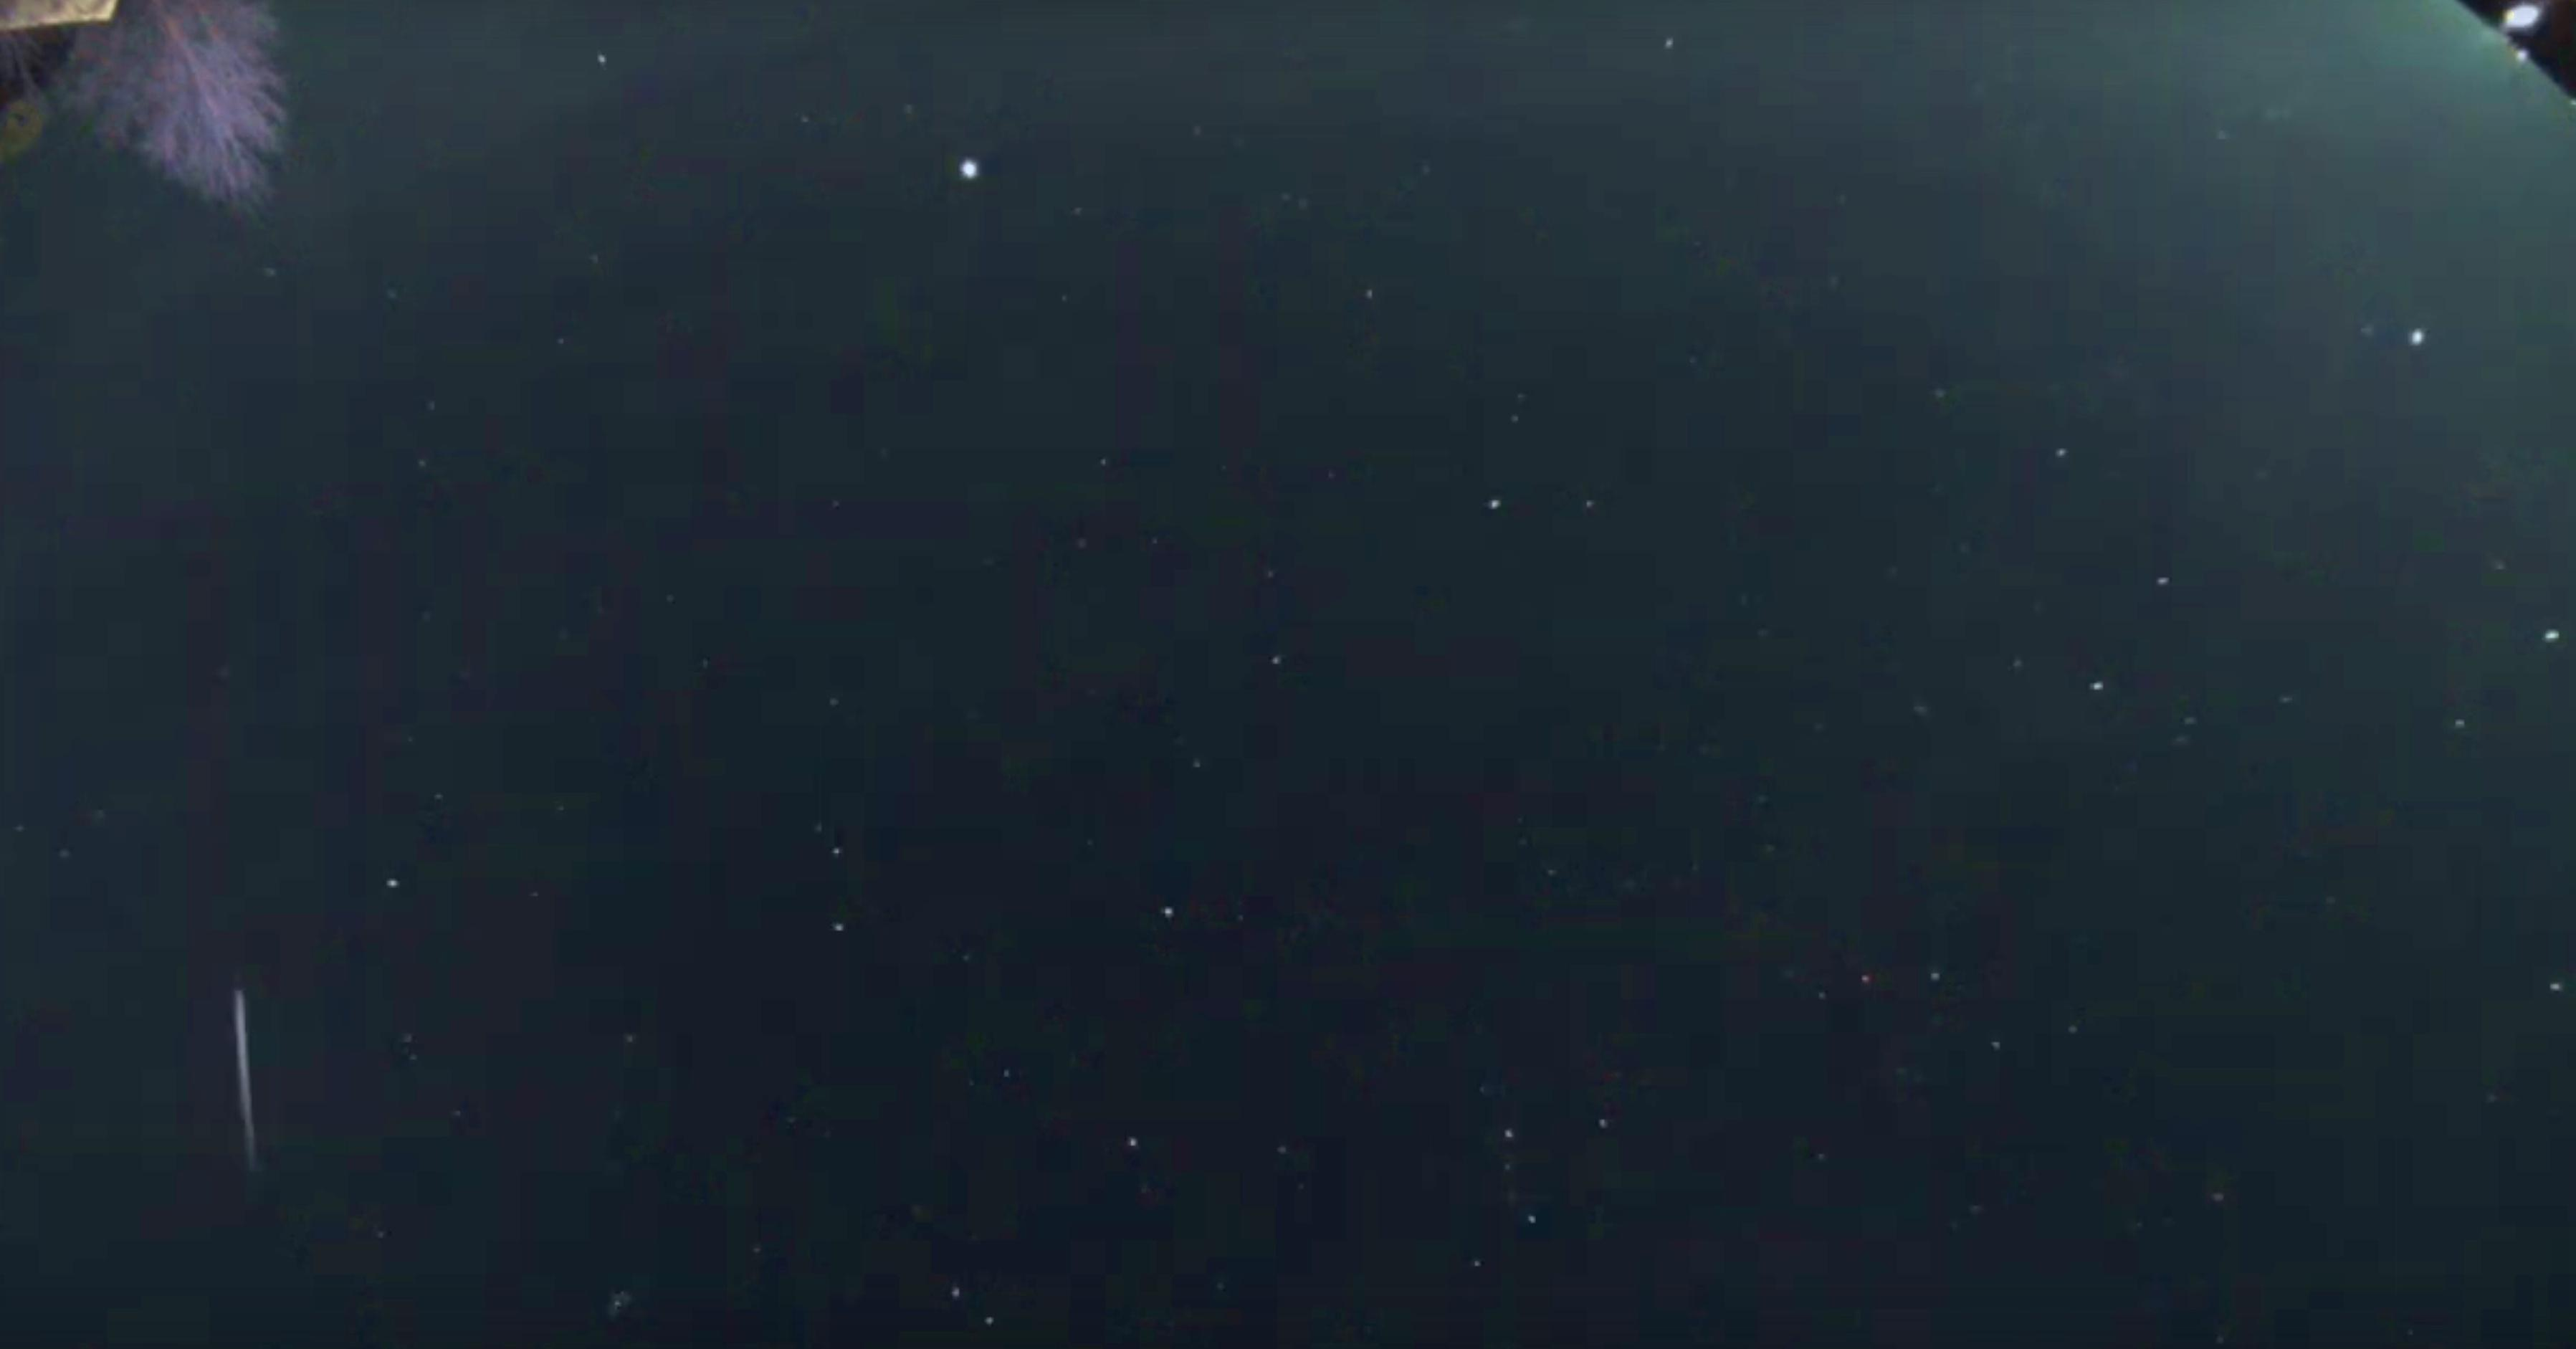meteorite: (181, 935, 303, 1158)
